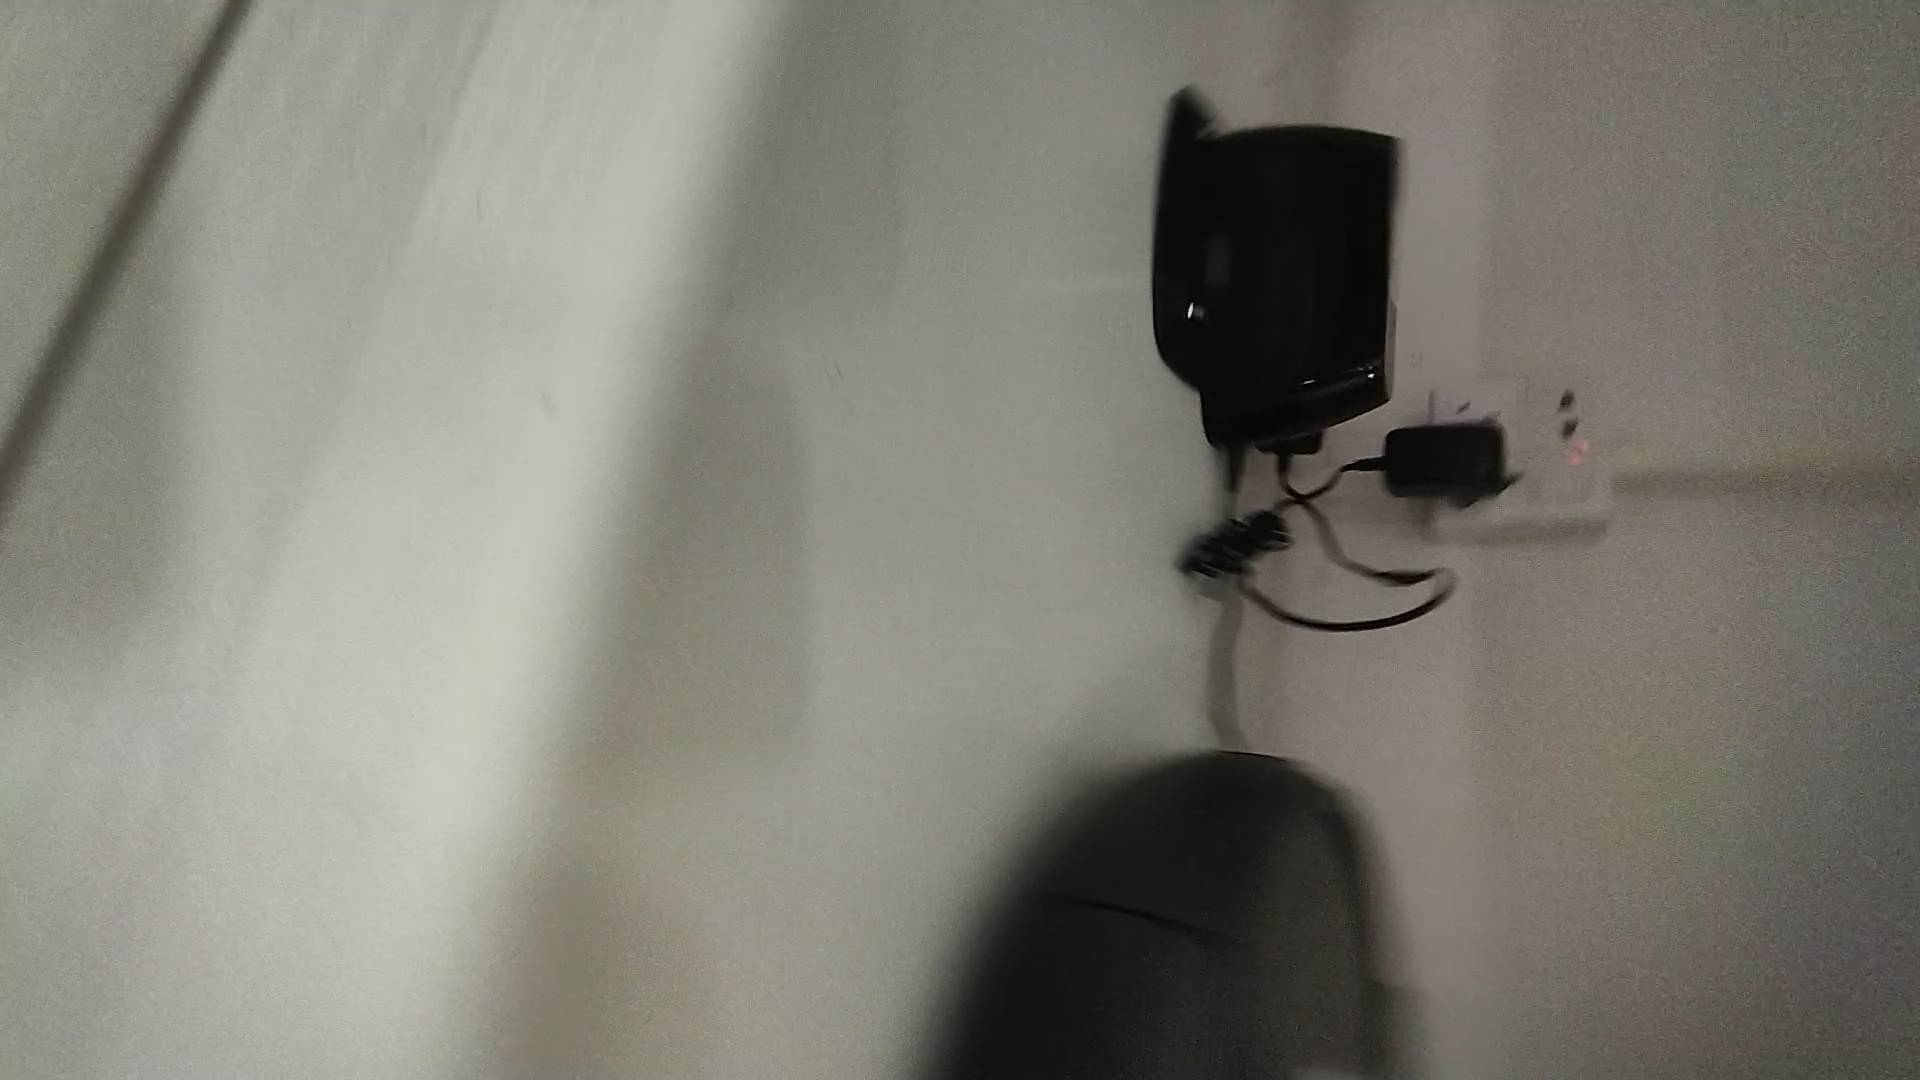recharge seat: (1149, 87, 1404, 448)
